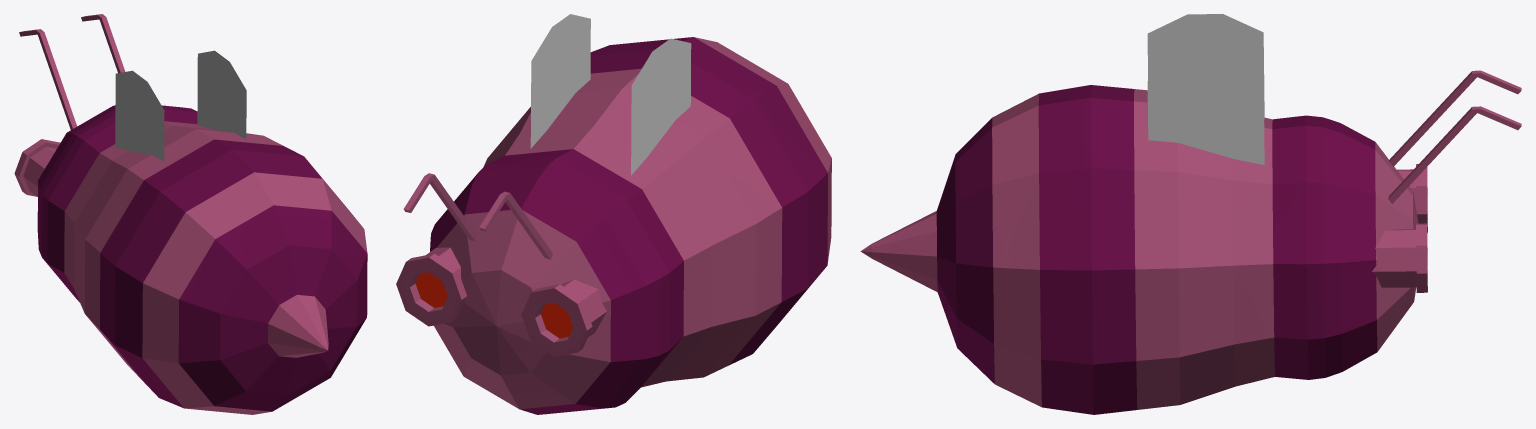
The model's file is Robot_Drone.fbx.
3 views of the same model, side by side, from view 1: azimuth 30°, elevation 25°; view 2: azimuth 150°, elevation 25°; view 3: azimuth 270°, elevation 25° (orthographic). The views are drawn at different scales.
Parts seen in each view (by area): view 1: Sphere.019; view 2: Sphere.019; view 3: Sphere.019.
Part boxes in pixels (x1,y1,x2,y2): Sphere.019: [14, 14, 367, 414]; Sphere.019: [396, 14, 831, 414]; Sphere.019: [860, 14, 1521, 414].
Size of the model in its own units: 34.59 by 43.31 by 71.52.
